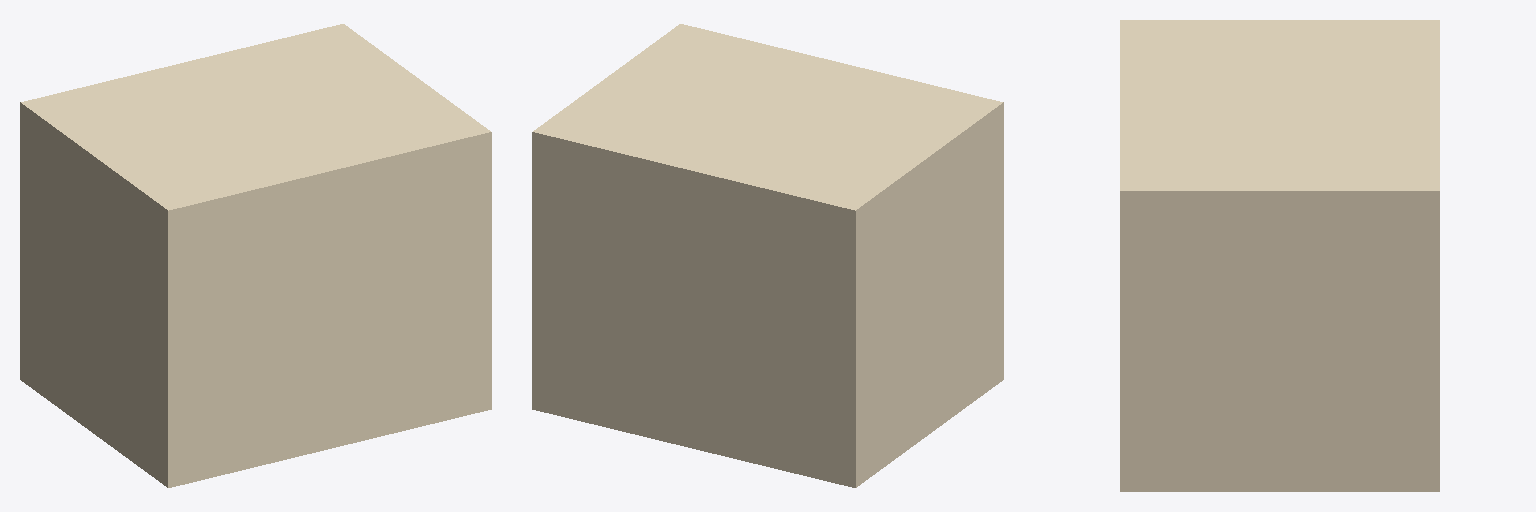
The robot description file, URDF, robot "bounds":
<?xml version="1.0"?>
<robot name="bounds">
	<link concave="yes" name="baseLink">
		<contact>
			<lateral_friction value="1"/>
		</contact>
		<visual>
			<geometry>
        <mesh filename="bounds.obj"/>
      </geometry>
			<material name="tan">
        <color rgba="0.95 0.9 0.8 1"/>
      </material>
		</visual>
		<collision concave="yes">
			<geometry>
        <mesh filename="bounds.obj"/>
      </geometry>
		</collision>
	</link>
</robot>

--- What the picture shows (computed from the rendered views, not written in the file) ---
Views: 3 orthographic renders of the robot side by side, from view 1: azimuth 30°, elevation 25°; view 2: azimuth 150°, elevation 25°; view 3: azimuth 270°, elevation 25°.
Robot: bounds — 1 links, 0 joints (none); root link baseLink; default pose: all joints at 0.
Links seen in each view (by area): view 1: baseLink; view 2: baseLink; view 3: baseLink.
Boxes of the visible links, <box> form: baseLink: <box>20,24,491,487</box>; baseLink: <box>532,24,1003,487</box>; baseLink: <box>1120,20,1439,491</box>.
Bounding box of the posed robot: 1.47 × 1.17 × 1.21 m (x, y, z).
Meshes: 1 distinct files referenced, 1 mesh visuals loaded (1 OBJ).